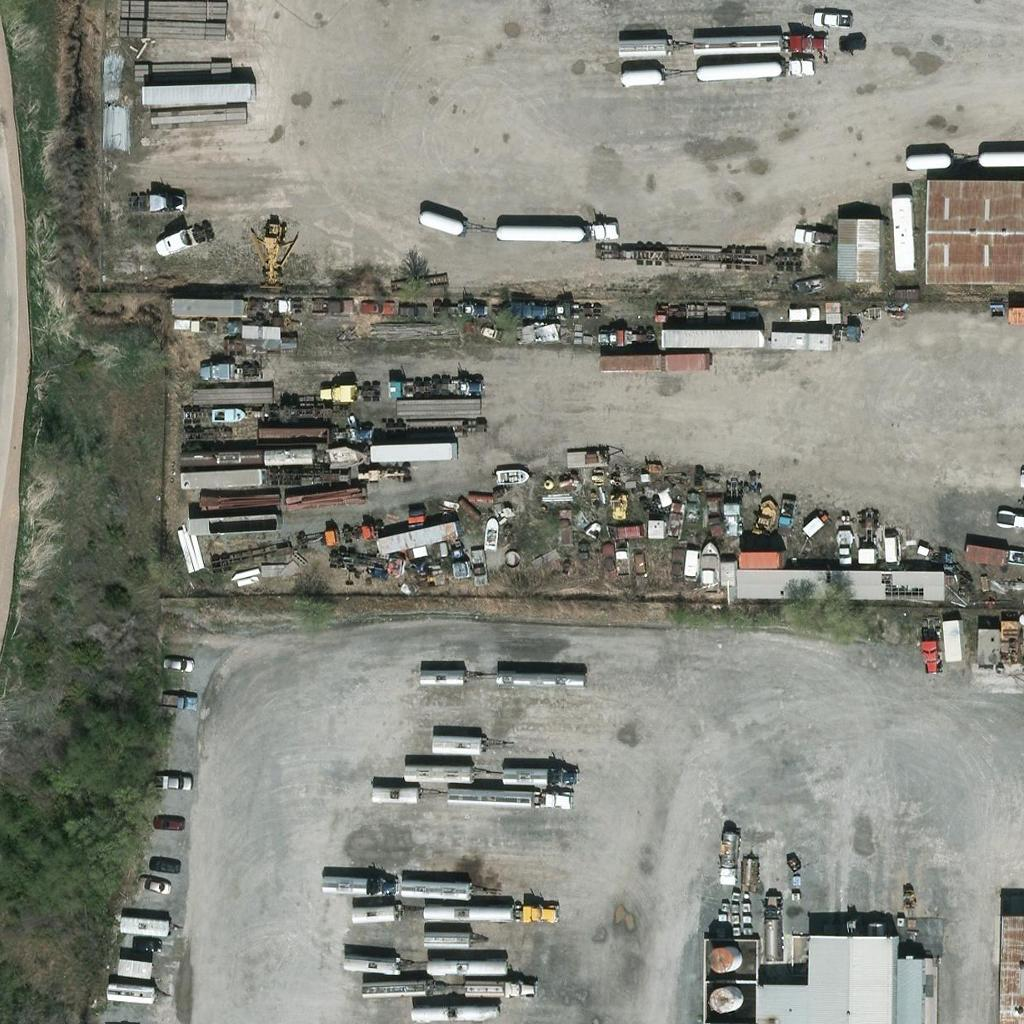car: (811, 2, 845, 36), (789, 220, 823, 254), (315, 288, 349, 322), (356, 290, 390, 324), (392, 293, 426, 327), (784, 295, 818, 329), (659, 501, 693, 535), (696, 502, 730, 536), (826, 534, 860, 568), (603, 538, 637, 572), (621, 540, 655, 574), (592, 544, 626, 578), (461, 546, 495, 580), (659, 550, 693, 584), (671, 552, 705, 586), (158, 646, 192, 680), (163, 685, 197, 719), (155, 764, 189, 798), (154, 807, 188, 841), (150, 848, 184, 882), (136, 868, 170, 902), (128, 927, 162, 961), (1003, 505, 1024, 539)
